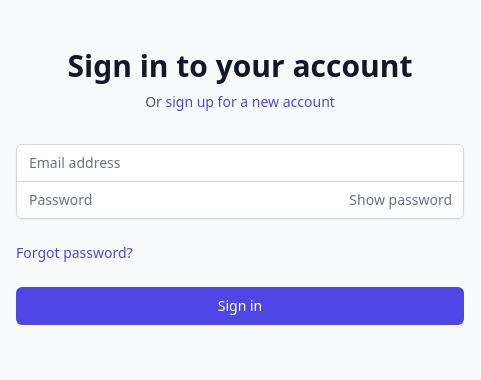
it: Login Page Component › should display error message on failed login
Type "test@example.com" into the field labelled "Email address" at (240, 162), box top-left (16, 144), bottom-right (464, 182)
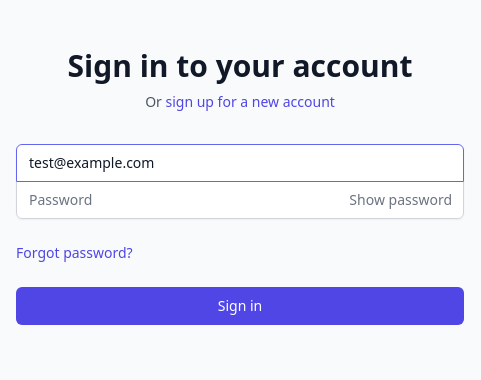
Type "WrongPassword" into the password field labelled "Password" at (240, 200), box top-left (16, 180), bottom-right (464, 218)
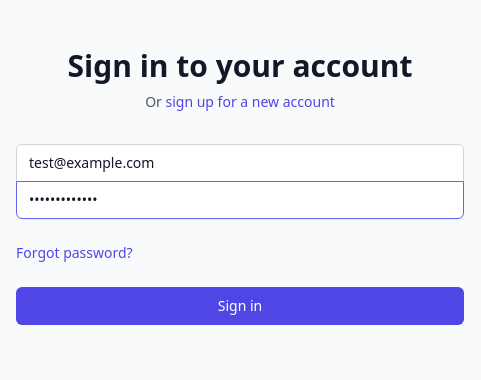
Click the button "Sign in" at (240, 306), box top-left (16, 286), bottom-right (464, 324)
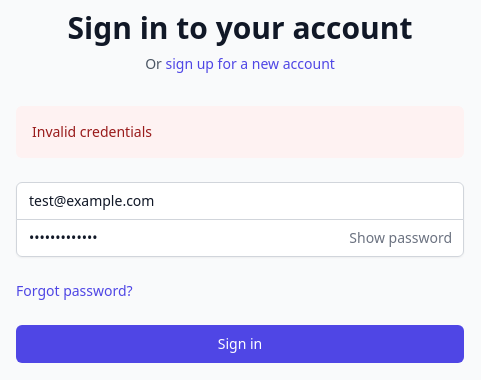
Expected: the text "Invalid credentials" is shown, top-left (32, 122), bottom-right (152, 140)
